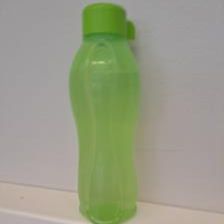bottle: (69, 3, 144, 223)
